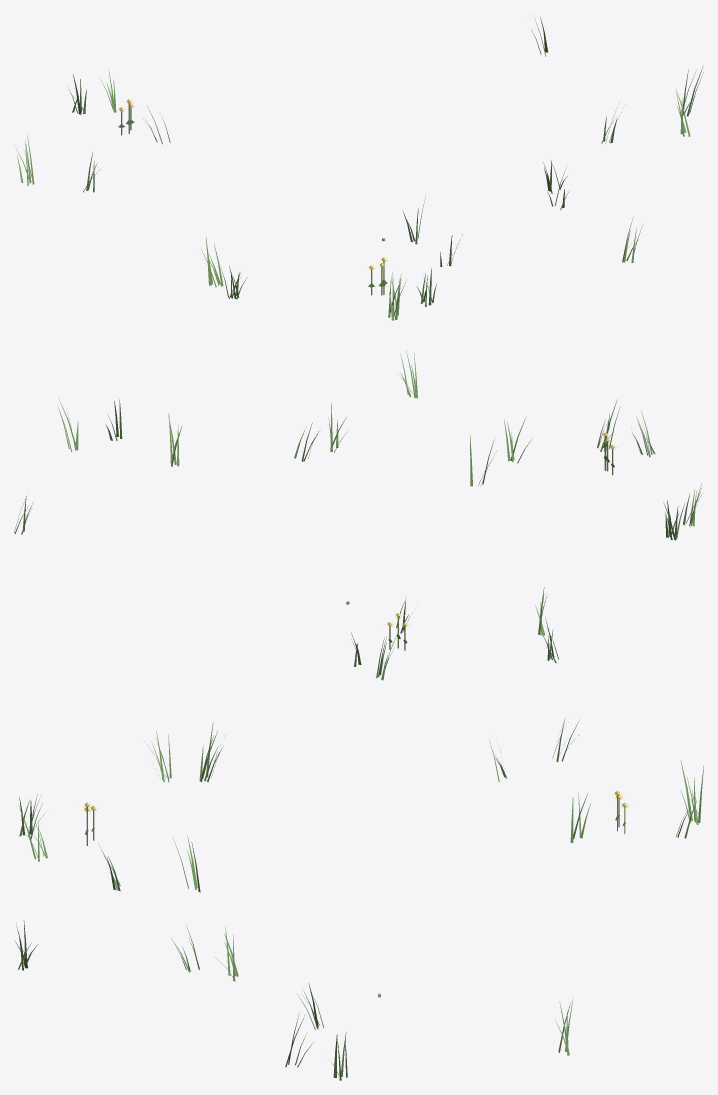
File: rv_meadow_c.gltf
3 renders of one model, top to bottom at view 1: azimuth 30°, elevation 25°; view 2: azimuth 150°, elevation 25°; view 3: azimuth 270°, elevation 25°, orthographic. The views are drawn at different scales.
Visible parts, largest first — view 1: RV_MeadowC; view 2: RV_MeadowC; view 3: RV_MeadowC.
Boxes of the visible parts, x1=… form: RV_MeadowC: x1=14, y1=15, x2=703, y2=320; RV_MeadowC: x1=14, y1=350, x2=701, y2=680; RV_MeadowC: x1=14, y1=719, x2=703, y2=1080.
Bounding box in the file's own units: 5.42 × 1.03 × 4.77.
